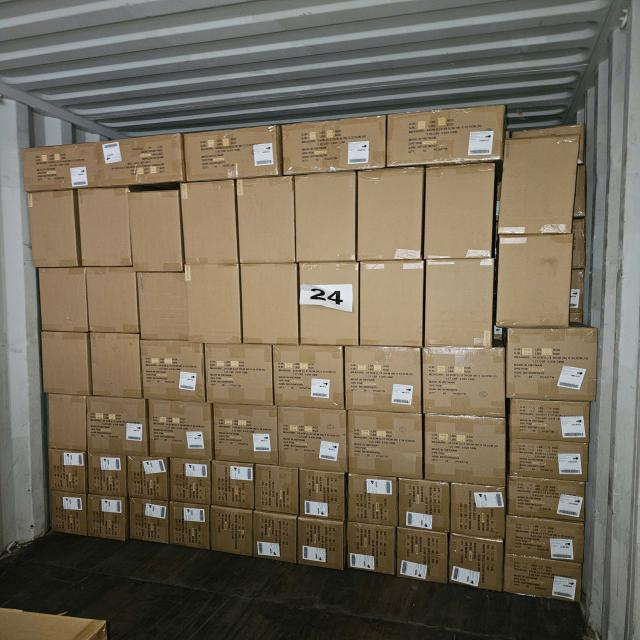Carton: (505, 124, 582, 232), (389, 106, 503, 170), (499, 234, 573, 329), (507, 332, 598, 407), (509, 397, 590, 480), (427, 166, 495, 261), (359, 168, 425, 262), (280, 116, 383, 176), (426, 411, 508, 485), (424, 344, 508, 416), (423, 261, 492, 348), (506, 528, 586, 602), (358, 261, 423, 347), (296, 172, 358, 262), (343, 343, 421, 413), (346, 408, 423, 478), (240, 175, 298, 262), (184, 128, 280, 180), (302, 263, 361, 347), (272, 342, 346, 408), (275, 405, 347, 471), (100, 132, 187, 186), (185, 180, 240, 264), (244, 264, 300, 346), (203, 341, 274, 404), (139, 335, 206, 401), (18, 140, 103, 192), (130, 187, 182, 271), (189, 264, 242, 342), (77, 187, 129, 266), (215, 404, 281, 466), (30, 188, 80, 266), (85, 394, 147, 456), (149, 403, 215, 461), (137, 274, 187, 344), (89, 331, 141, 398), (507, 479, 586, 522), (87, 266, 138, 332), (38, 265, 88, 332), (41, 331, 91, 396), (446, 536, 503, 592), (453, 484, 509, 539), (398, 478, 451, 531), (397, 530, 448, 584), (347, 474, 398, 526), (345, 526, 395, 577), (297, 518, 345, 569), (47, 393, 88, 452), (208, 508, 252, 560), (302, 471, 348, 520), (255, 466, 300, 516), (253, 513, 298, 563), (211, 462, 253, 512), (168, 503, 209, 550), (128, 498, 170, 543), (86, 494, 125, 540), (127, 458, 169, 500), (172, 460, 212, 504), (48, 453, 88, 496), (49, 491, 88, 535), (86, 458, 125, 499)
